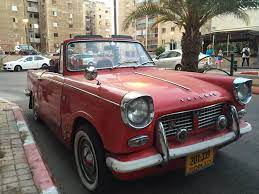licence: (184, 145, 217, 178)
